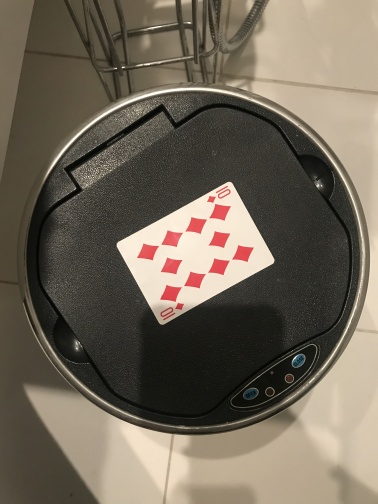ten: (115, 180, 277, 326)
